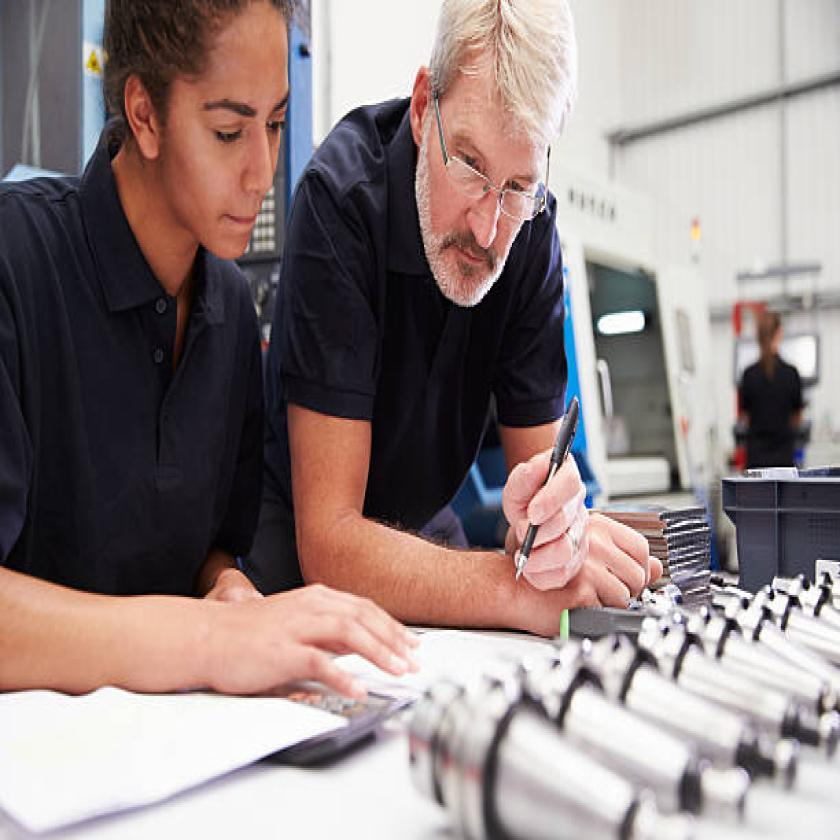Sin_casco: (104, 0, 293, 280), (413, 0, 574, 319)
